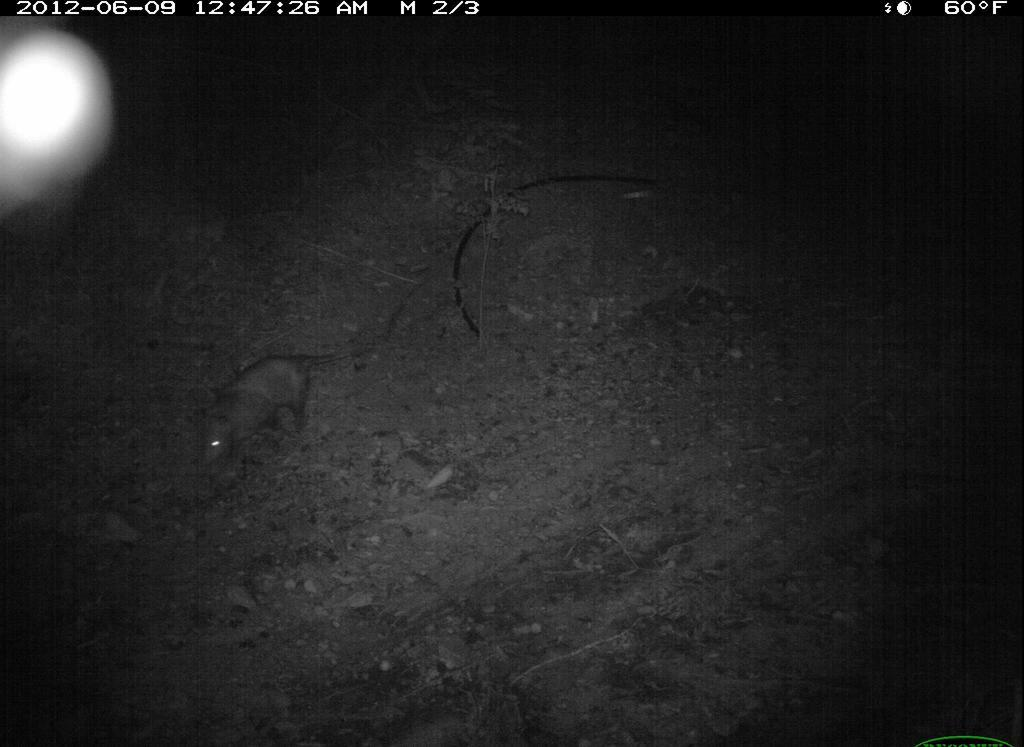opossum: (190, 342, 367, 472)
